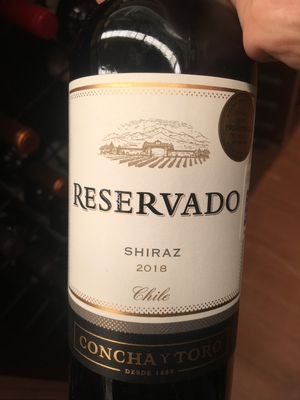reservado shiraz: (69, 30, 246, 400)
